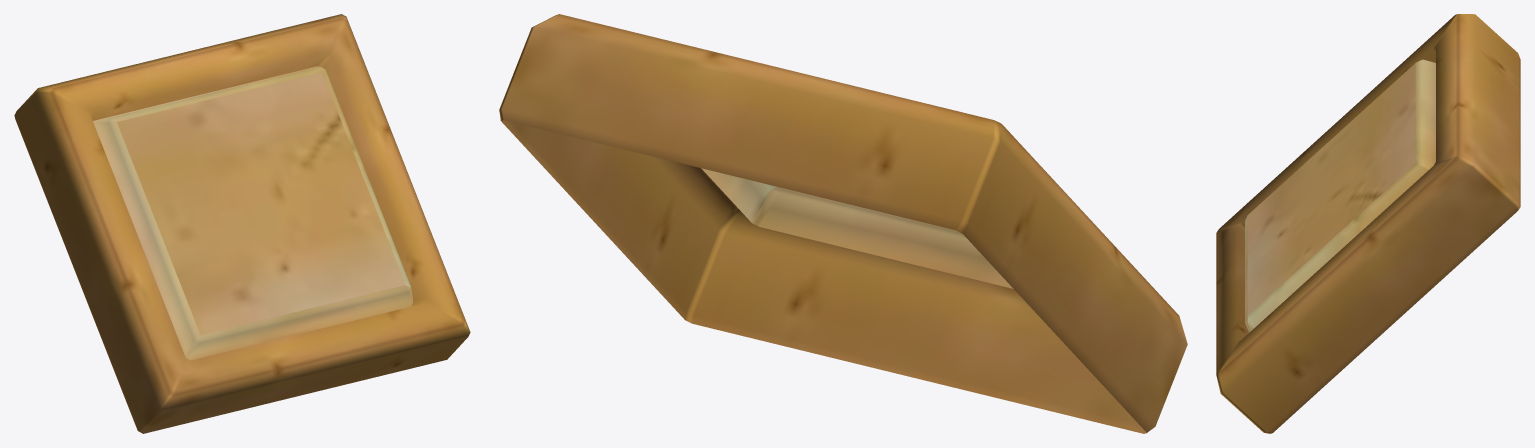
3 views of the same model, side by side, from view 1: azimuth 30°, elevation 25°; view 2: azimuth 150°, elevation 25°; view 3: azimuth 270°, elevation 25° (orthographic). The views are drawn at different scales.
Parts seen in each view (by area): view 1: SM_Vault_Mirror_Button_Plinth_Arrow_Middle_LOD0; view 2: SM_Vault_Mirror_Button_Plinth_Arrow_Middle_LOD0; view 3: SM_Vault_Mirror_Button_Plinth_Arrow_Middle_LOD0.
Boxes of the visible parts, x1,y1,x2,y2 form: SM_Vault_Mirror_Button_Plinth_Arrow_Middle_LOD0: (14, 14, 470, 433); SM_Vault_Mirror_Button_Plinth_Arrow_Middle_LOD0: (499, 14, 1187, 433); SM_Vault_Mirror_Button_Plinth_Arrow_Middle_LOD0: (1216, 14, 1520, 433).
Bounding box in the file's own units: 0.2055 × 0.1739 × 0.1739.
2 materials, 2 textured.
